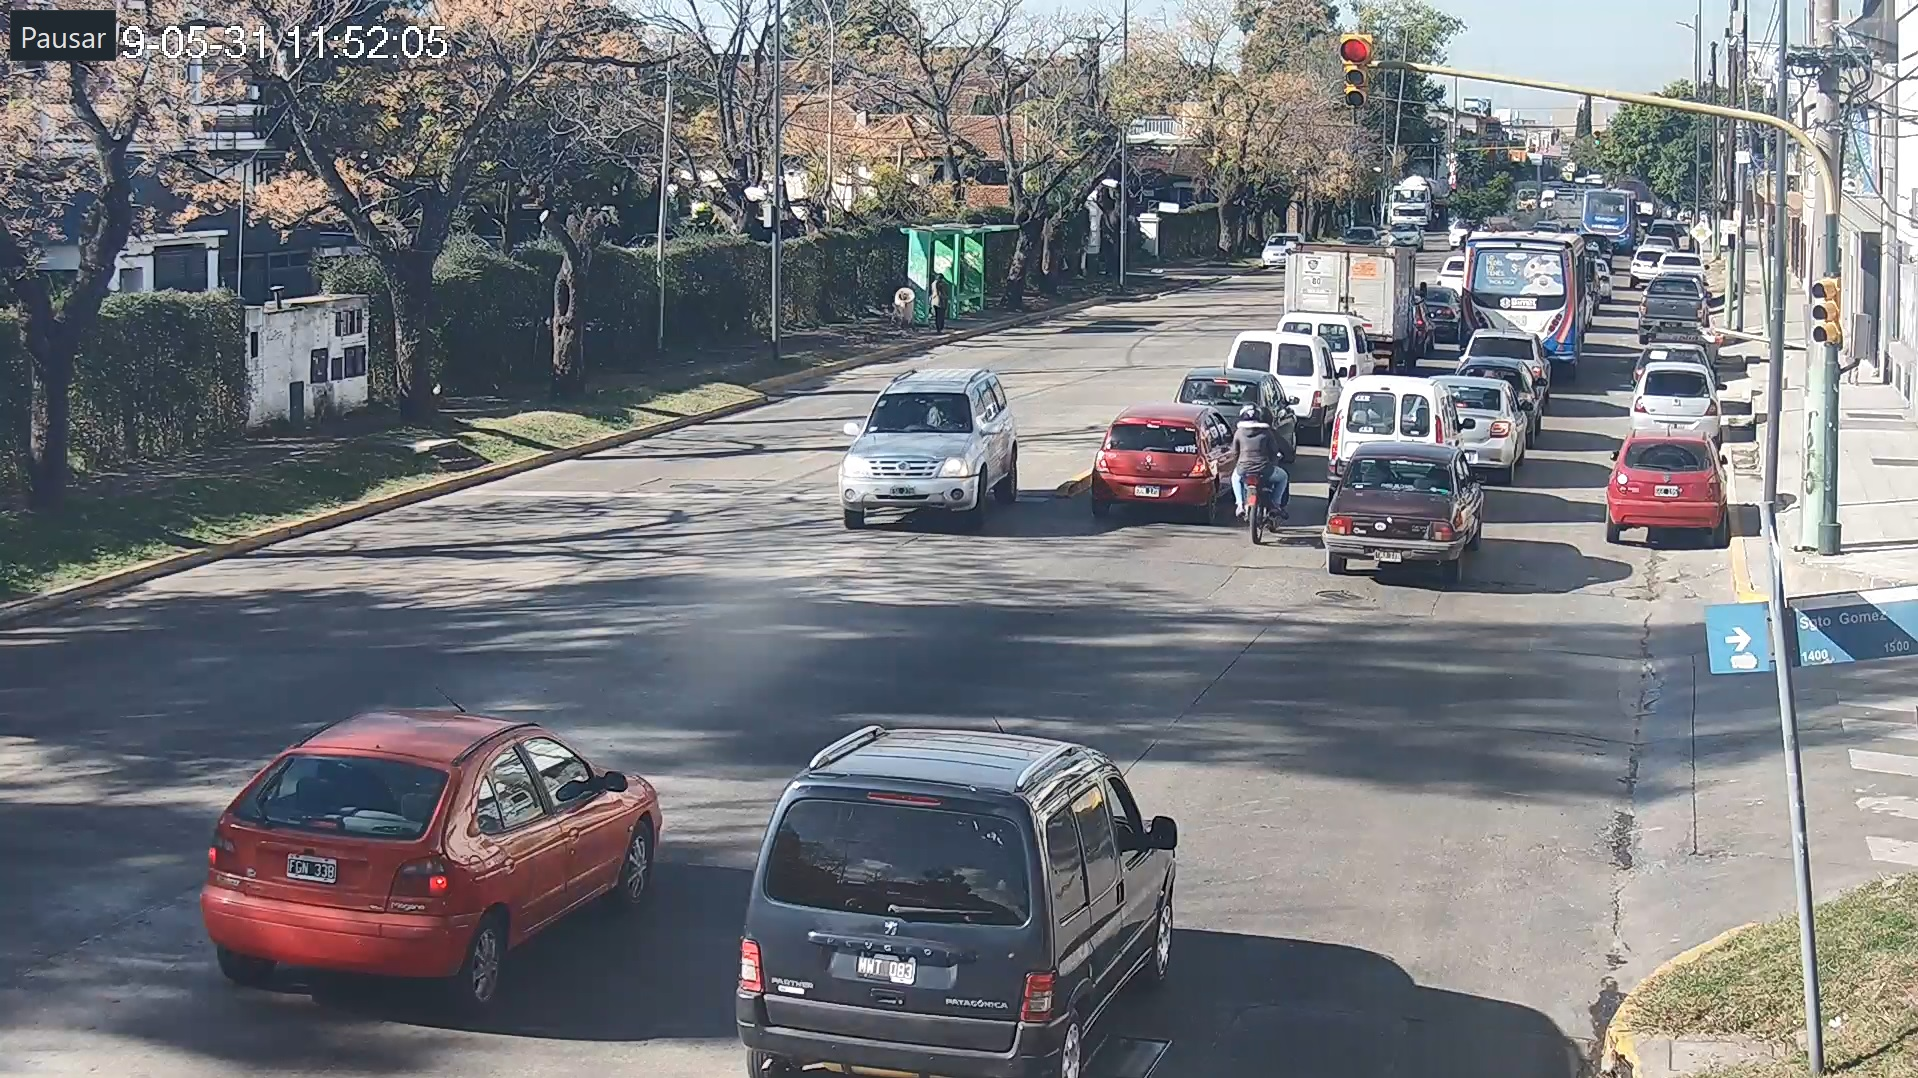car: (732, 726, 1182, 1078), (208, 701, 665, 1009), (838, 366, 1024, 535), (1327, 438, 1478, 579), (1606, 434, 1728, 546), (1100, 405, 1222, 515), (1630, 361, 1724, 438)
motorcycle: (1229, 402, 1295, 546)
